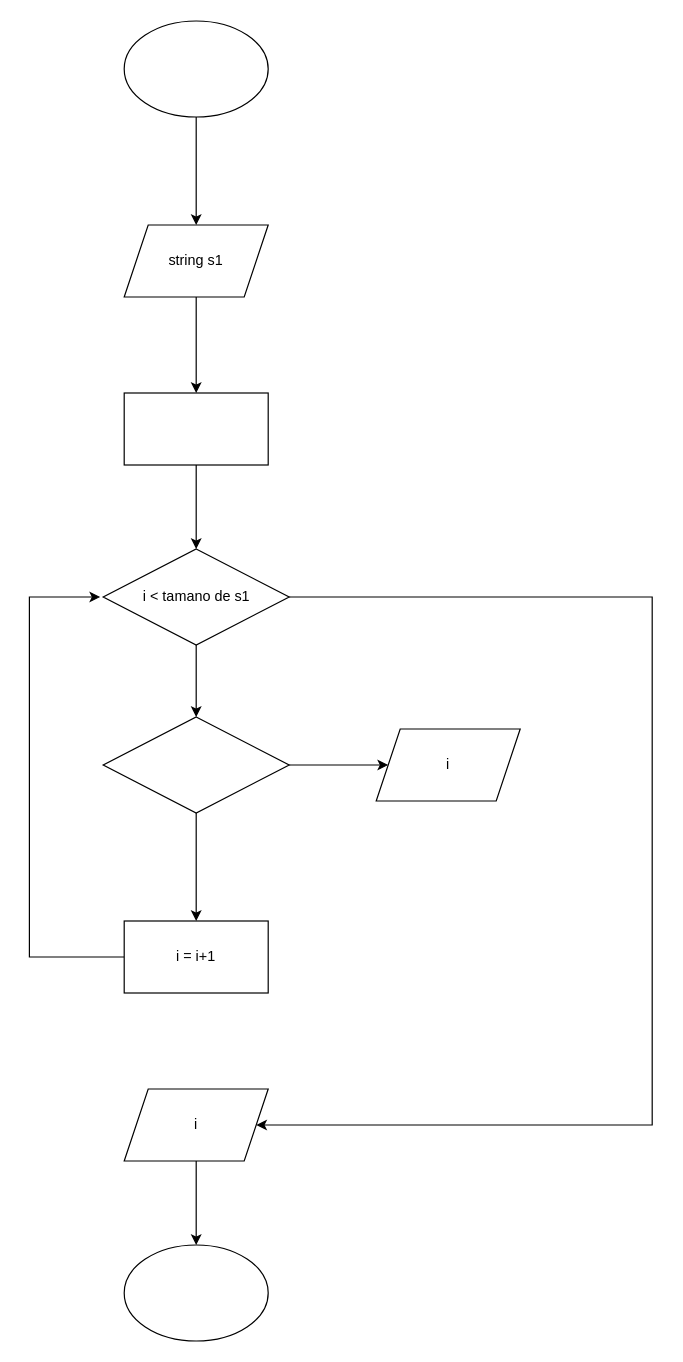
Some shapes in this 683 by 1362 pixel diagram are drawn without their labels. The centre of each missing label's shape, as x and y in pixels:
"INICIO" belongs at point (195, 68).
"int i = 0" belongs at point (195, 428).
"s1 [i] ='espacio'" belongs at point (195, 764).
